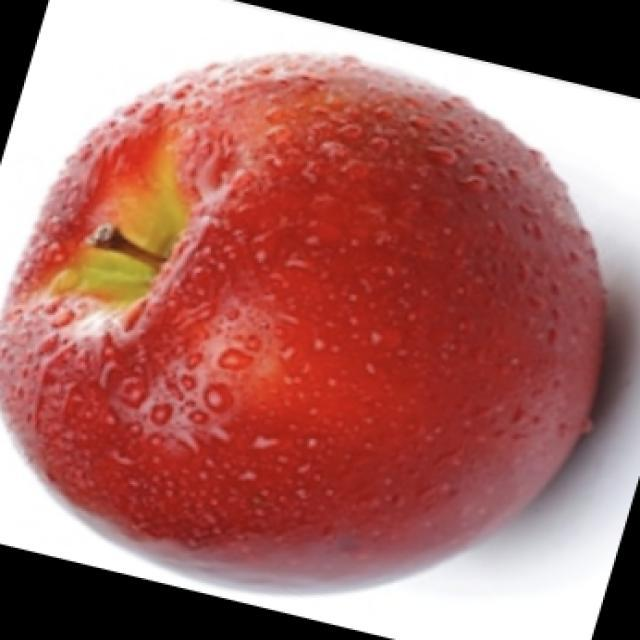Fresh Apple: (43, 65, 610, 603)
